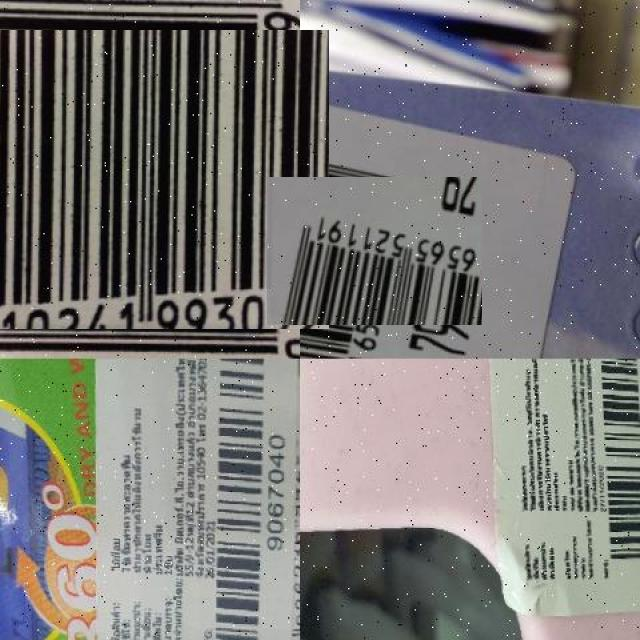Barcode: (0, 15, 314, 345), (283, 160, 465, 342), (187, 359, 297, 640), (594, 359, 640, 573)
